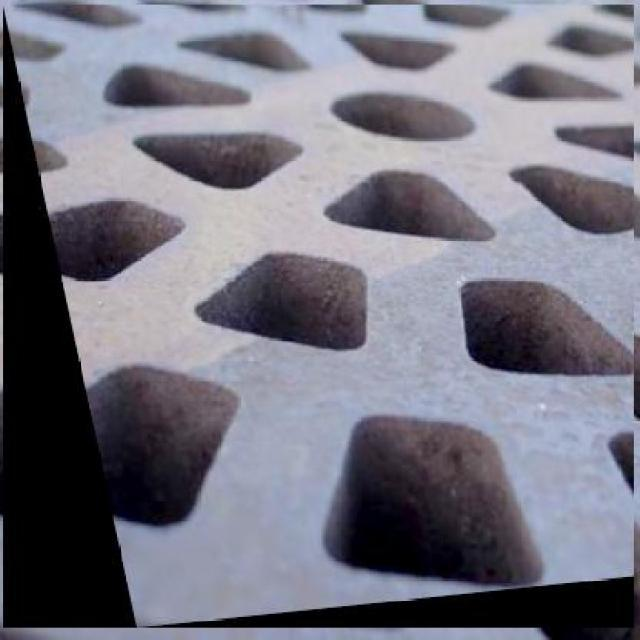Manhole: (5, 5, 636, 628)
